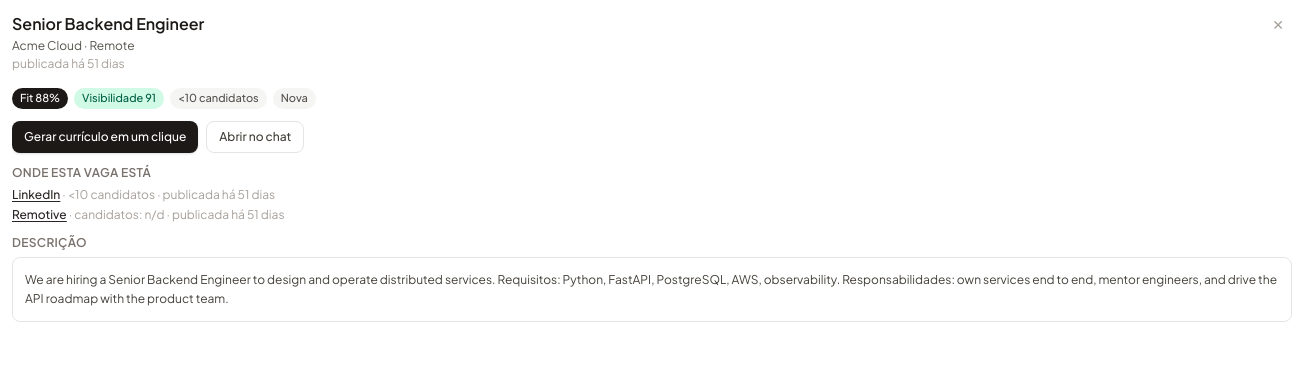
Test: ListingDetail › a 422 from the backend disables the button too, and never shows the raw error code
Click the button "Gerar currículo em um clique". click: (105,136)
box: [12,120,198,152]
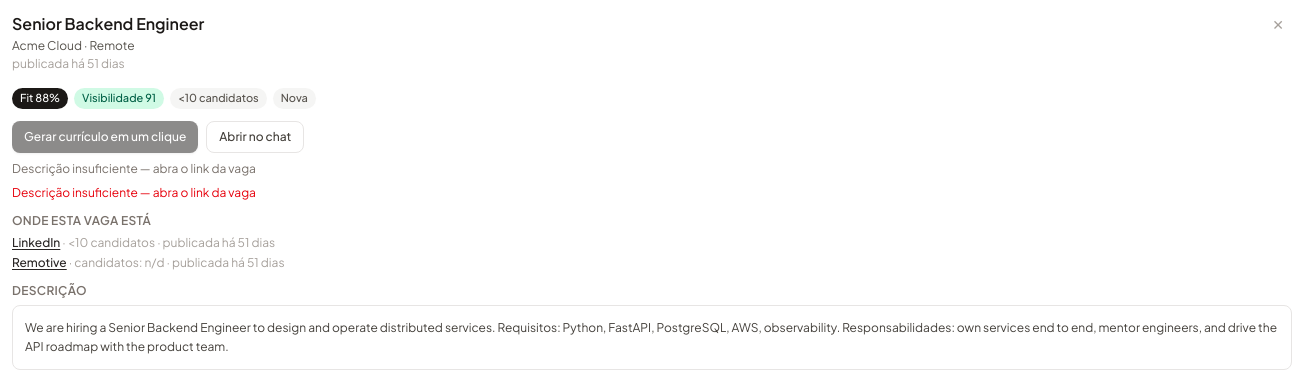
Check: the message reads "Descrição insuficiente — abra o link da vaga", box [12,184,256,200]
Check: the button "Gerar currículo em um clique" is disabled, box [12,120,198,152]
